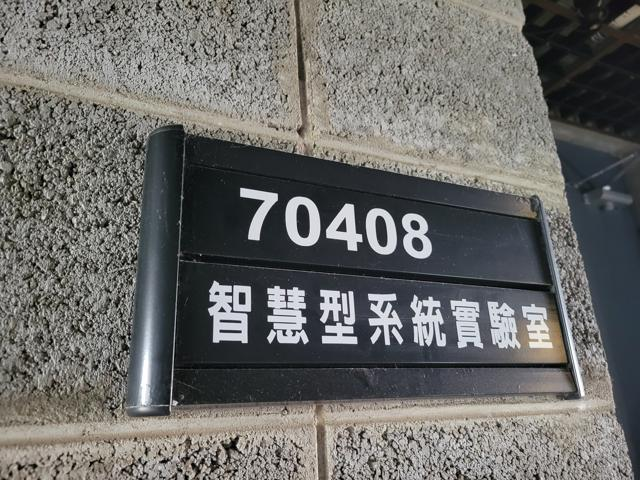doorplate: (121, 121, 590, 420)
